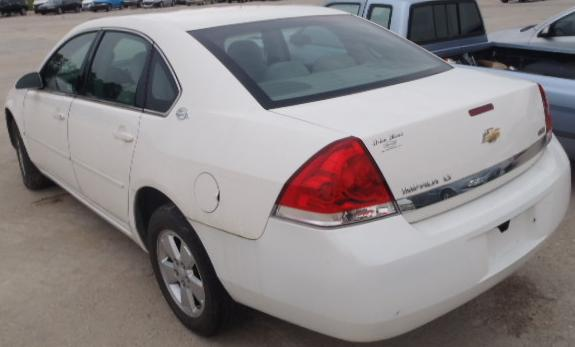back_view: (269, 78, 575, 345)
backlight: (265, 127, 407, 238)
side_glass: (34, 24, 186, 122)
